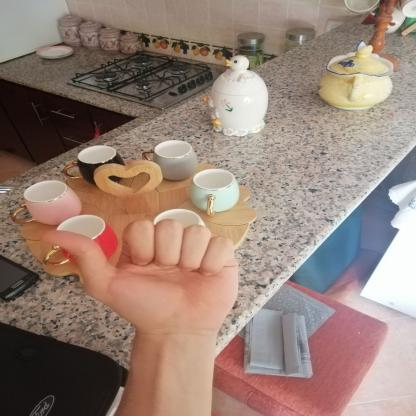DAD: (31, 211, 250, 346)
